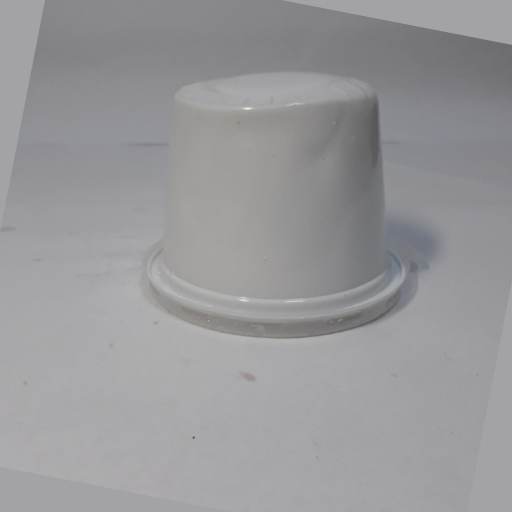Plastic_5: (140, 72, 412, 336)
